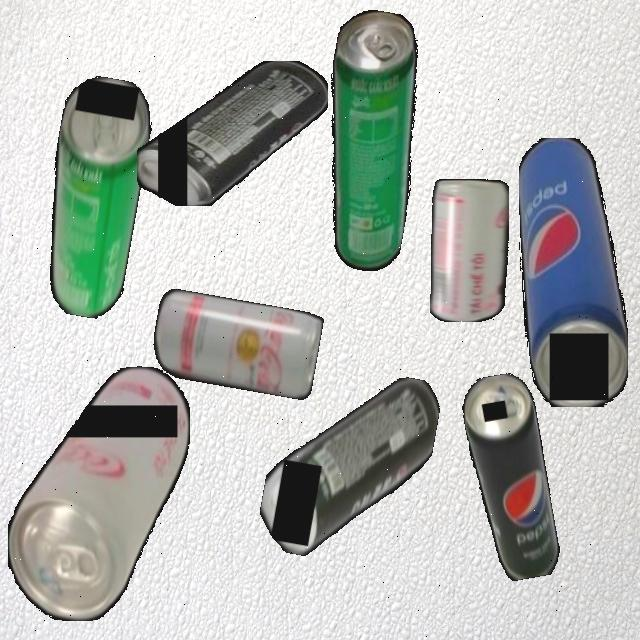debris: (7, 365, 190, 621), (254, 357, 444, 574), (299, 5, 440, 276), (29, 72, 159, 322), (518, 137, 628, 407), (136, 61, 328, 206), (458, 370, 564, 584), (148, 287, 324, 401), (430, 178, 509, 322)
